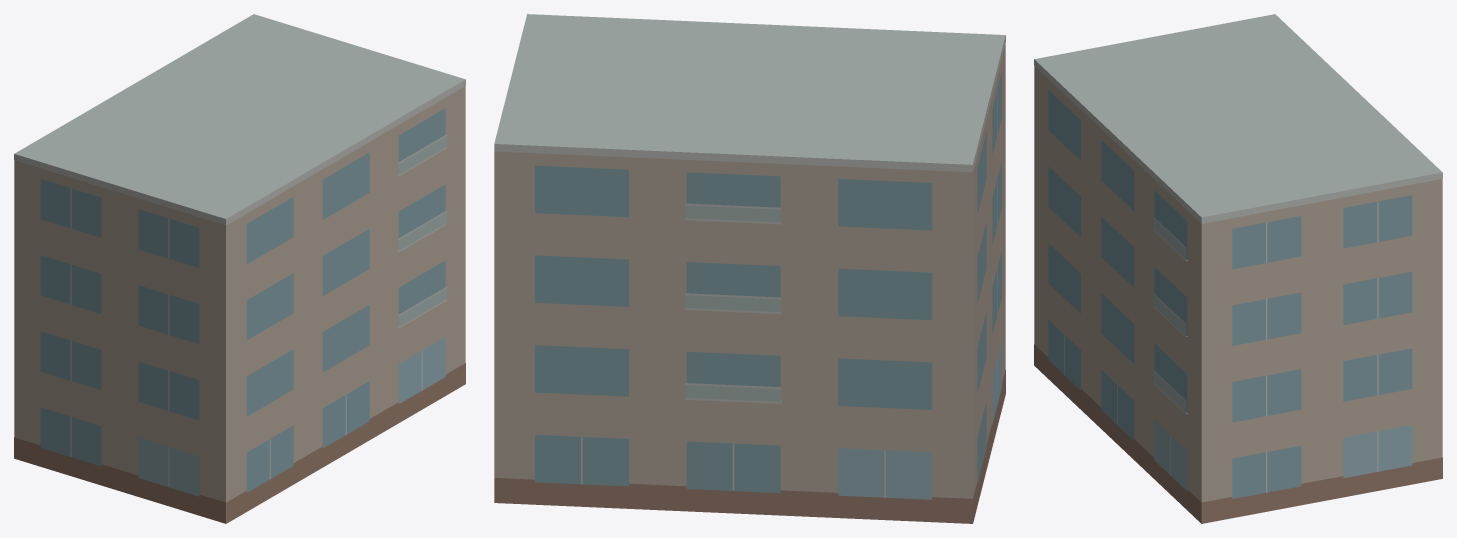
File: survey-upis-32758092.glb
3 views of the same model, side by side, from view 1: azimuth 30°, elevation 25°; view 2: azimuth 150°, elevation 25°; view 3: azimuth 270°, elevation 25° (orthographic). The views are drawn at different scales.
Visible parts, largest first — view 1: survey-upis-32758092.tmp; view 2: survey-upis-32758092.tmp; view 3: survey-upis-32758092.tmp.
Part boxes in pixels (box(x1,y1,x2,y2)): survey-upis-32758092.tmp: box(14, 14, 465, 523); survey-upis-32758092.tmp: box(494, 14, 1005, 523); survey-upis-32758092.tmp: box(1034, 14, 1442, 523).
Size of the model in its own units: 16.68 by 11.7 by 14.15.
